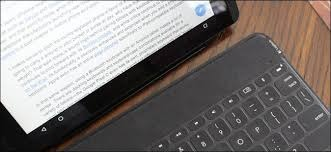keyboard: (89, 64, 331, 152)
